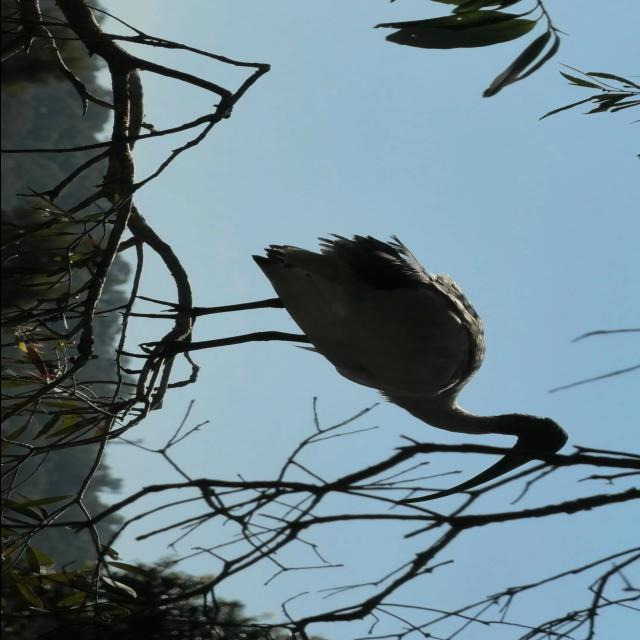Birds-Ibis: (109, 230, 573, 506)
